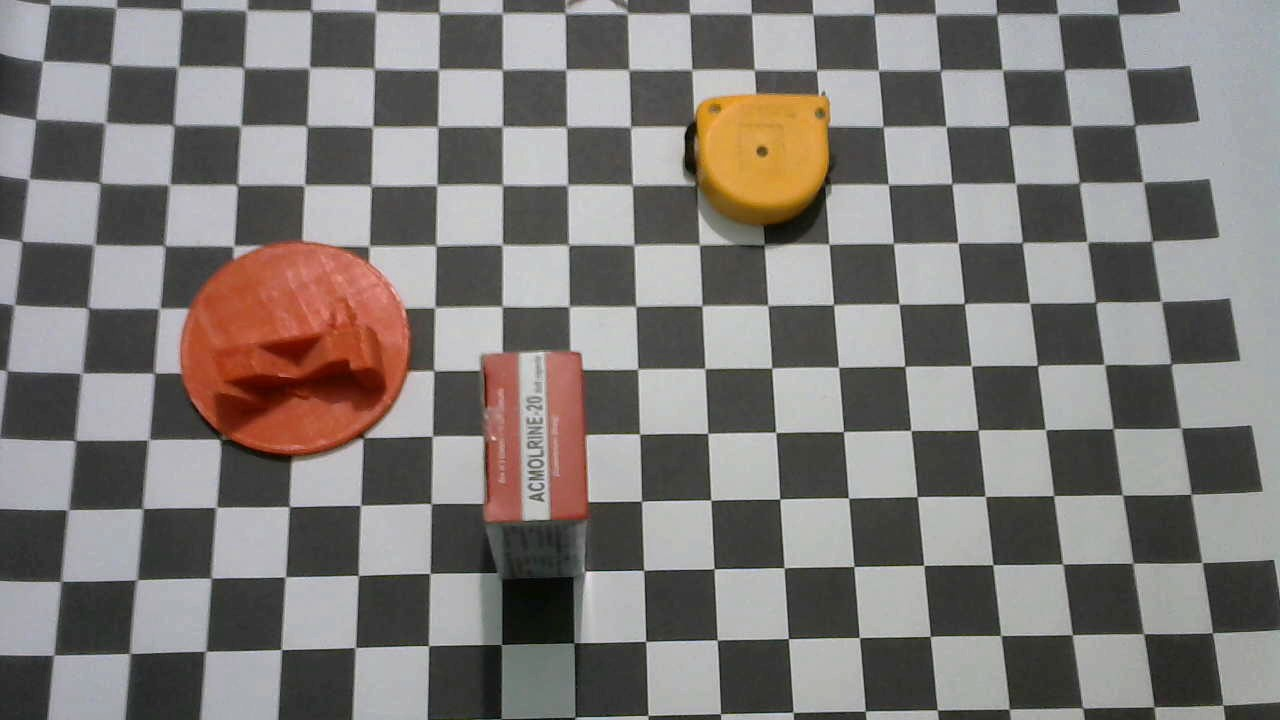blue: (685, 90, 835, 222)
green: (179, 244, 409, 457)
red: (479, 349, 590, 582)
